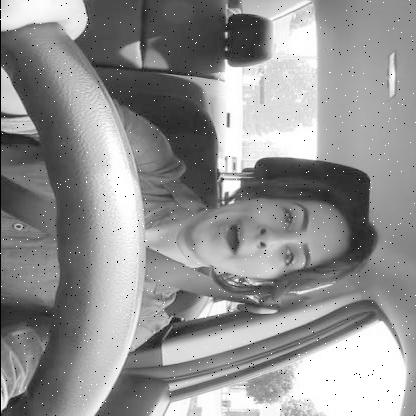seatbelt: (0, 163, 393, 321)
